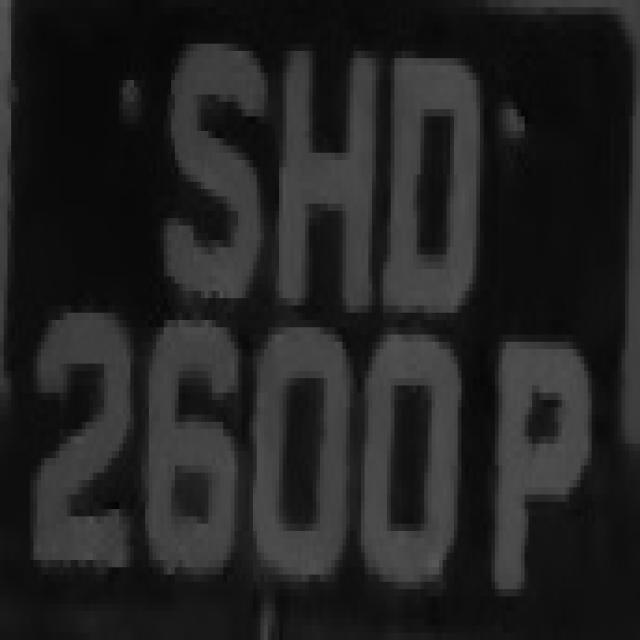0: (350, 298, 480, 604), (235, 276, 358, 596)
2: (22, 291, 138, 589)
6: (145, 305, 249, 611)
D: (376, 22, 484, 327)
H: (264, 51, 383, 334)
P: (461, 283, 598, 640)
S: (152, 15, 256, 320)
